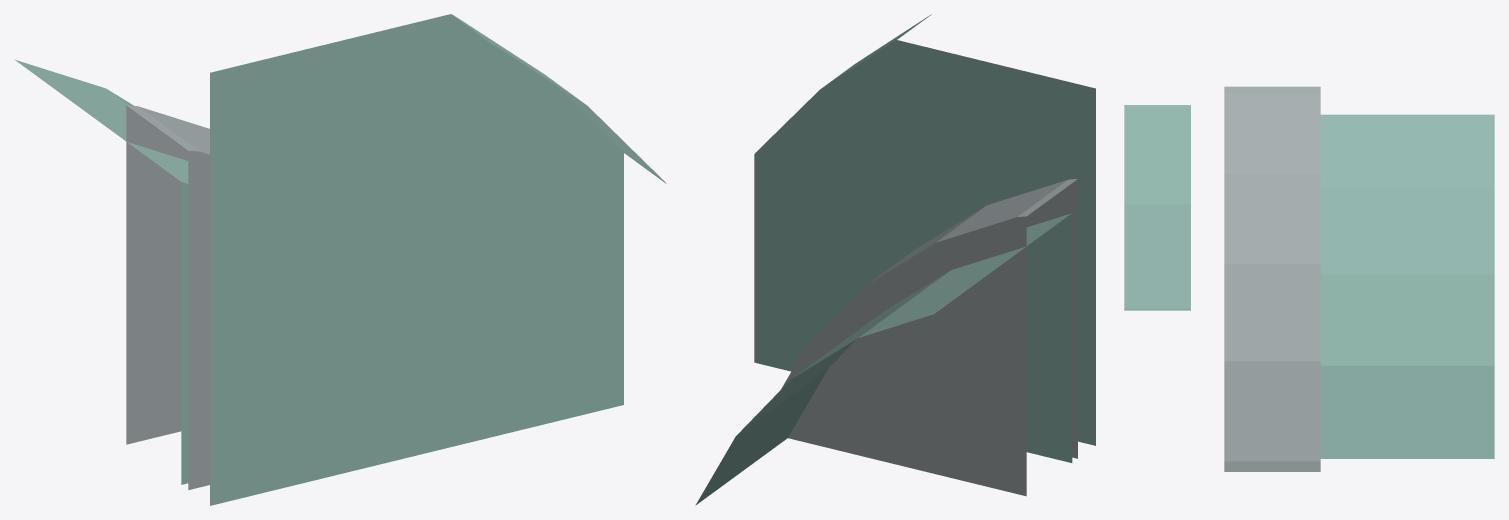
Rendered from cell_173.obj.
3 views of the same model, side by side, from view 1: azimuth 30°, elevation 25°; view 2: azimuth 150°, elevation 25°; view 3: azimuth 270°, elevation 25° (orthographic). The views are drawn at different scales.
Bounding box in the file's own units: 1 × 1 × 1.
